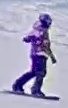snowboarder: (0, 13, 62, 101)
